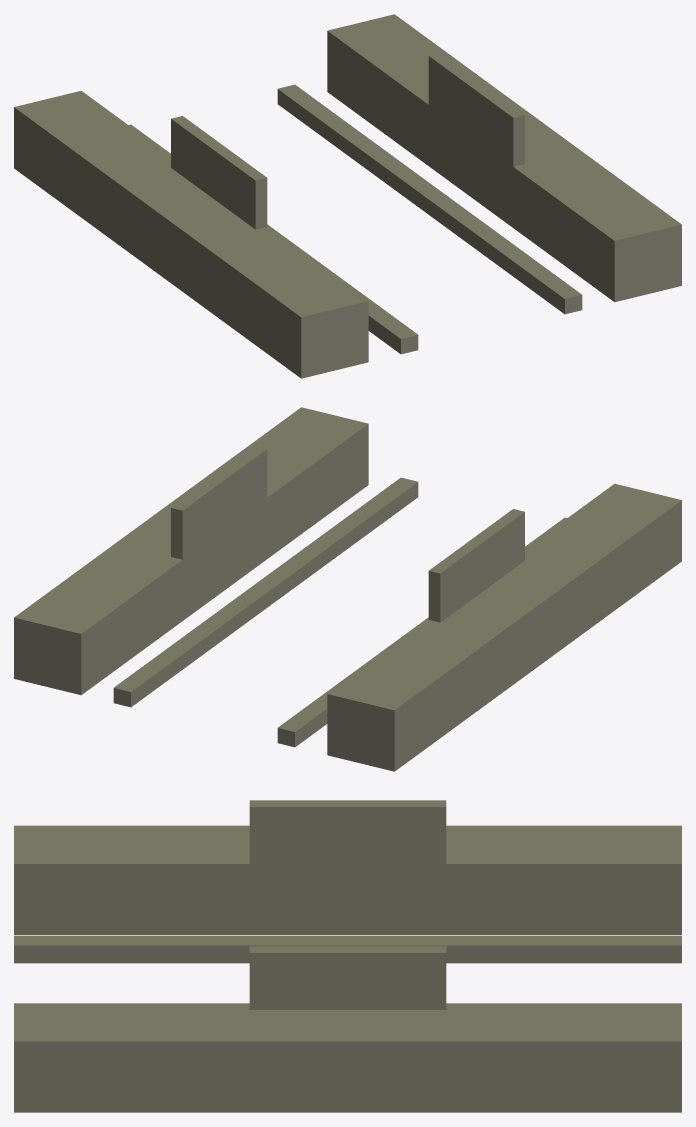
The model's file is ruin-ballcourt.far-facades-v2.lod2.glb.
3 views of the same model, one above another, from view 1: azimuth 30°, elevation 25°; view 2: azimuth 150°, elevation 25°; view 3: azimuth 270°, elevation 25° (orthographic). The views are drawn at different scales.
Parts seen in each view (by area): view 1: ruin-ballcourt; view 2: ruin-ballcourt; view 3: ruin-ballcourt.
Part boxes in pixels (x1,y1,x2,y2): ruin-ballcourt: (14,14,681,378); ruin-ballcourt: (14,407,681,771); ruin-ballcourt: (14,800,681,1112).
Bounding box in the file's own units: 26 × 7.2 × 34.
